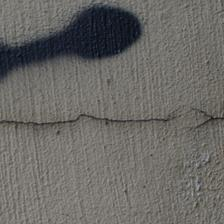Crack: (2, 103, 175, 137), (190, 104, 223, 135)
